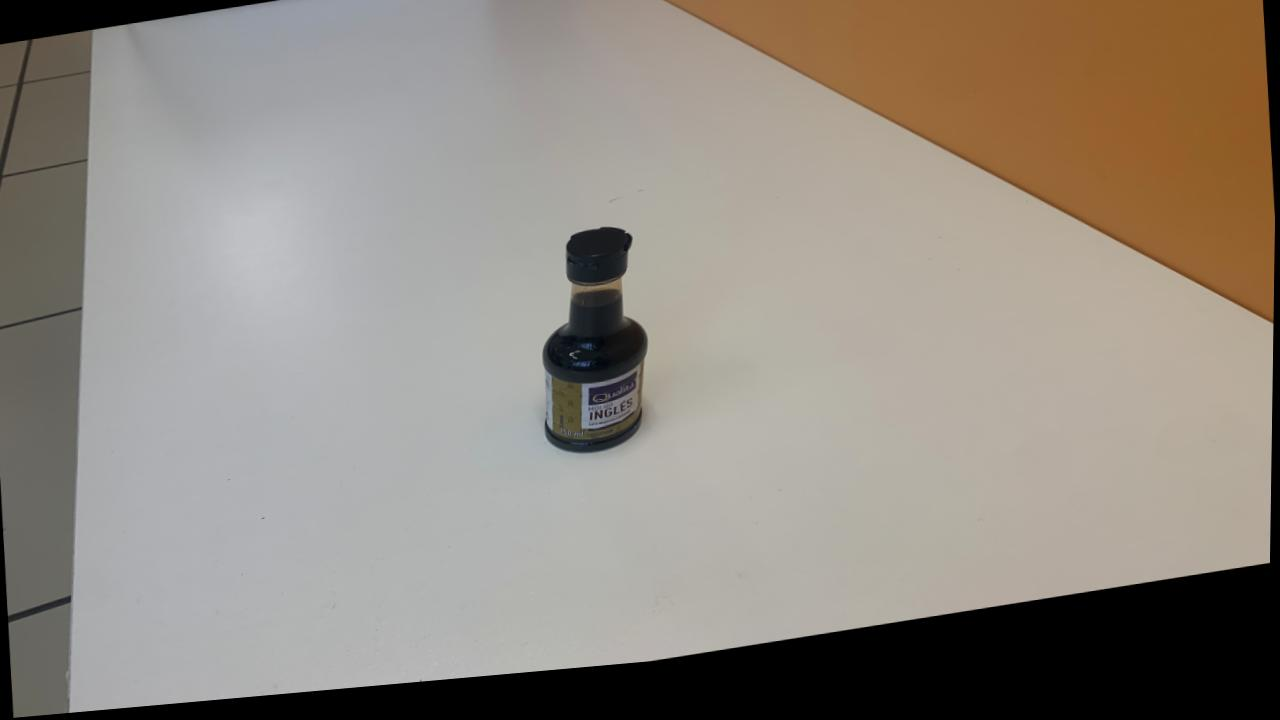English_Sauce-Pantry_Items: (543, 238, 649, 463)
